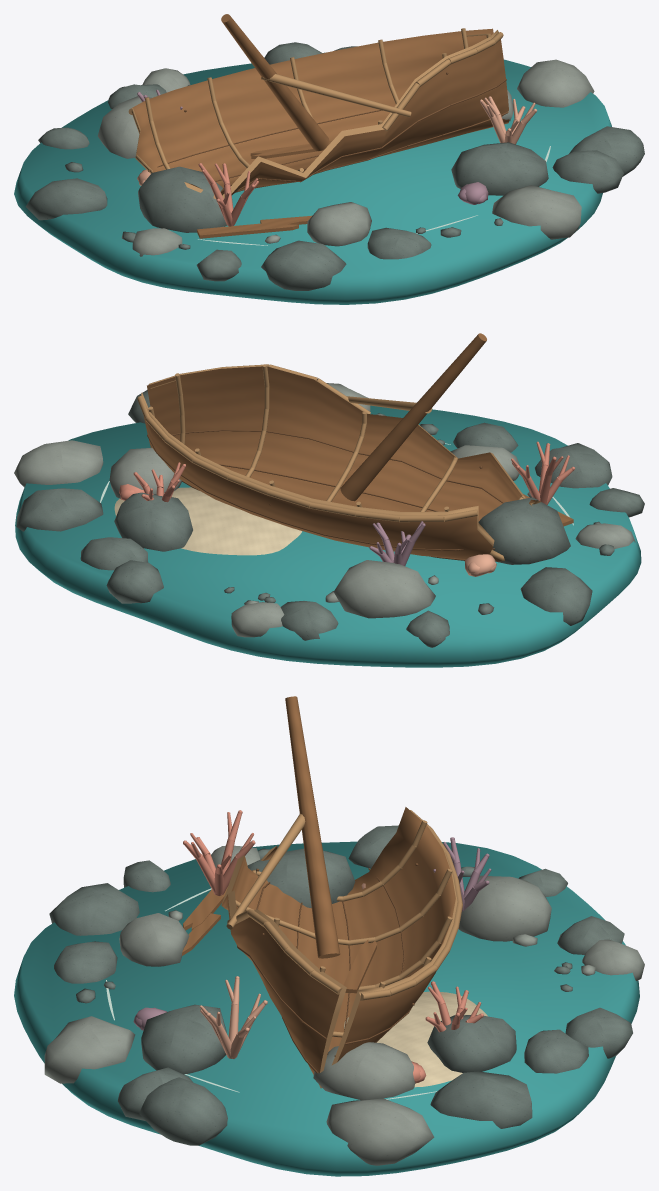
Rendered from shipwreck-reef-v4.glb.
3 renders of one model, top to bottom at view 1: azimuth 30°, elevation 25°; view 2: azimuth 150°, elevation 25°; view 3: azimuth 270°, elevation 25°, orthographic. The views are drawn at different scales.
Visible parts, largest first — view 1: Shipwreck | collectible export; view 2: Shipwreck | collectible export; view 3: Shipwreck | collectible export.
Part boxes in pixels (left/top/right/bottom): Shipwreck | collectible export: left=14, top=14, right=644, bottom=304; Shipwreck | collectible export: left=14, top=333, right=644, bottom=667; Shipwreck | collectible export: left=14, top=696, right=644, bottom=1176.
Size of the model in its own units: 1.72 by 0.6688 by 1.45.
Materials: 11 (4 with a texture image).
